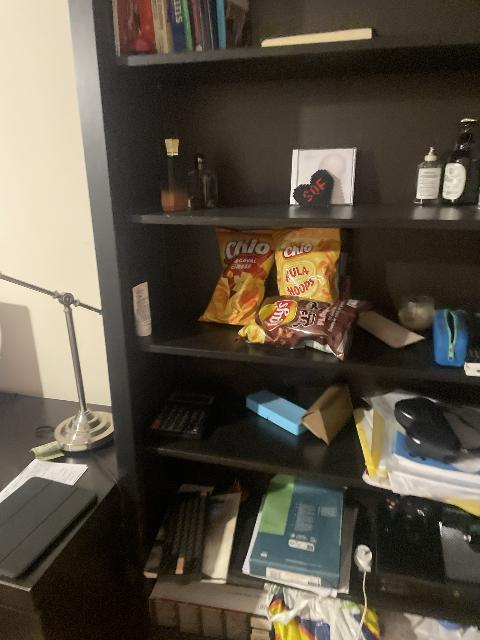Chio Cascaval 125g: (199, 229, 274, 325)
Chio Hula Hoops Cheese 70g: (273, 228, 344, 307)
Lays Beef Grilled Ribs 125g: (246, 294, 365, 356)
